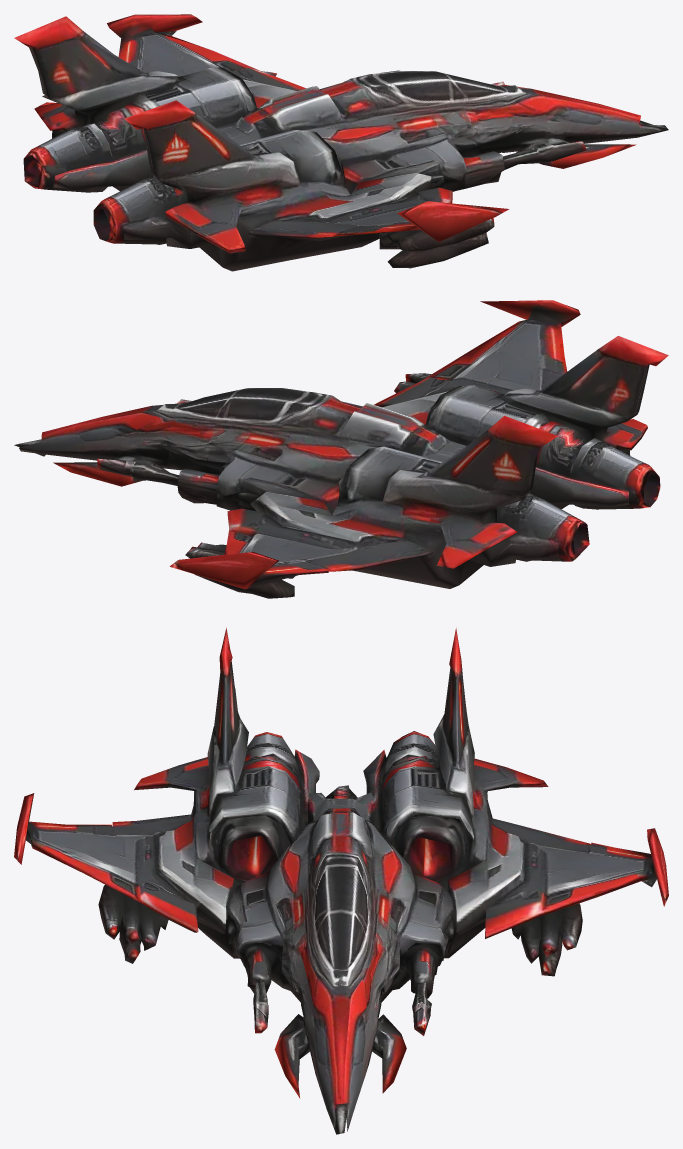
The model's file is pike.glb.
3 views of the same model, one above another, from view 1: azimuth 30°, elevation 25°; view 2: azimuth 150°, elevation 25°; view 3: azimuth 270°, elevation 25° (orthographic). The views are drawn at different scales.
Parts seen in each view (by area): view 1: tripo_node_190f85a6-8a3f-44c7-9c5b-dd9f3889dcf9; view 2: tripo_node_190f85a6-8a3f-44c7-9c5b-dd9f3889dcf9; view 3: tripo_node_190f85a6-8a3f-44c7-9c5b-dd9f3889dcf9.
Part boxes in pixels (box(x1,y1,x2,y2)): tripo_node_190f85a6-8a3f-44c7-9c5b-dd9f3889dcf9: box(14, 14, 668, 271); tripo_node_190f85a6-8a3f-44c7-9c5b-dd9f3889dcf9: box(14, 300, 668, 598); tripo_node_190f85a6-8a3f-44c7-9c5b-dd9f3889dcf9: box(14, 627, 668, 1134).
Size of the model in its own units: 0.9849 by 0.3243 by 0.8933.
1 material, 1 textured.
